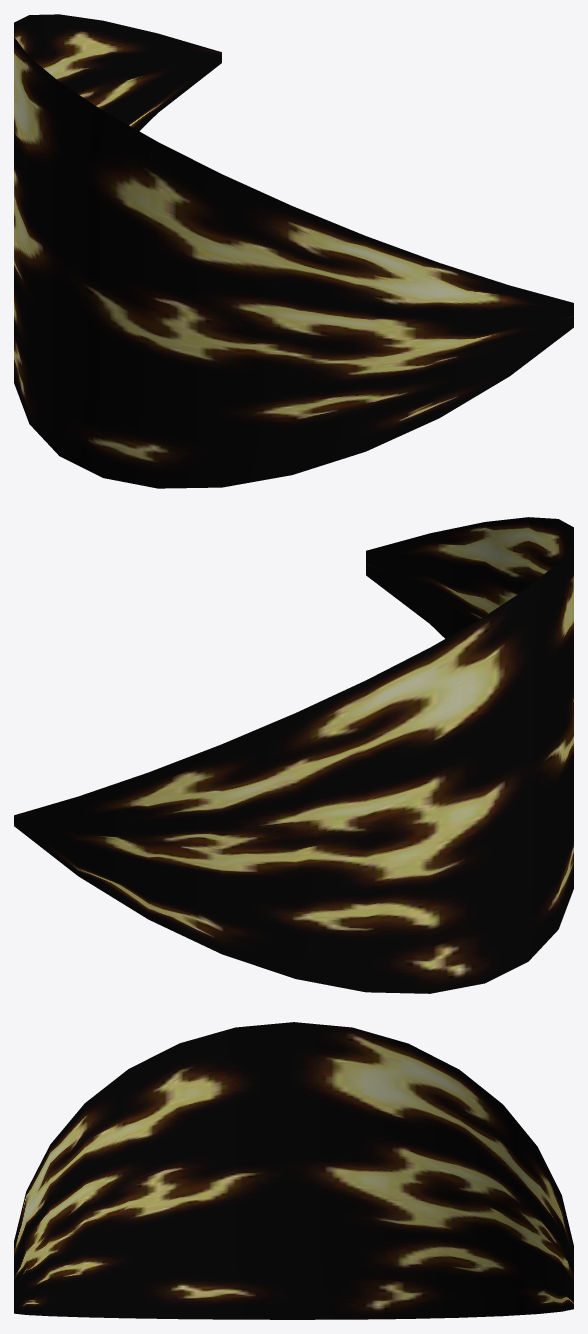
Rendered from 0387_mingren_04.glb.
3 renders of one model, top to bottom at view 1: azimuth 30°, elevation 25°; view 2: azimuth 150°, elevation 25°; view 3: azimuth 270°, elevation 25°, orthographic. The views are drawn at different scales.
Bounding box in the file's own units: 1.22 × 1.29 × 2.2.
Materials: 1 (1 with a texture image).
